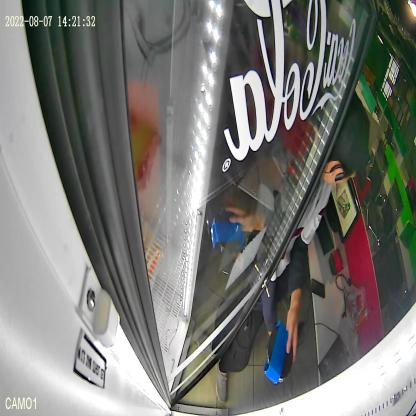blue: (264, 320, 293, 385)
